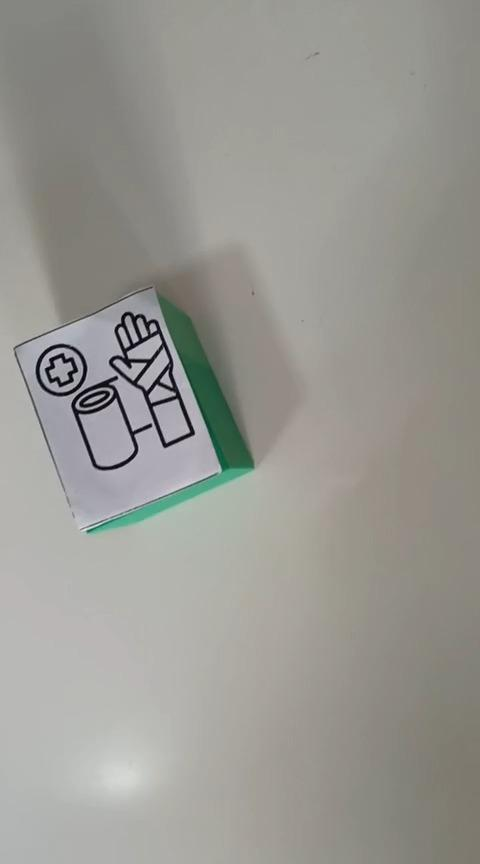Bandages: (13, 283, 254, 533)
